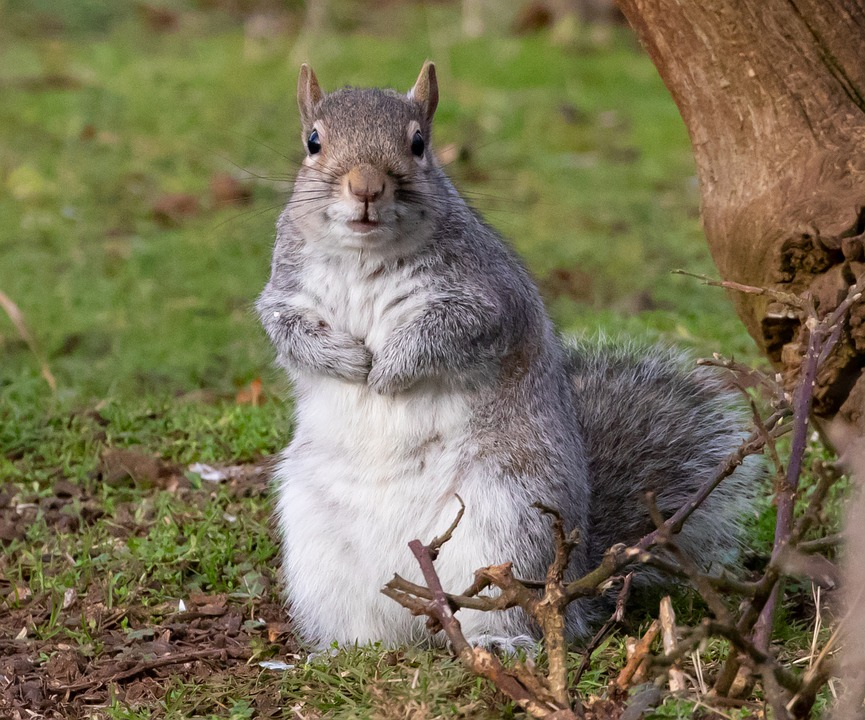squirrel: (259, 57, 719, 657)
